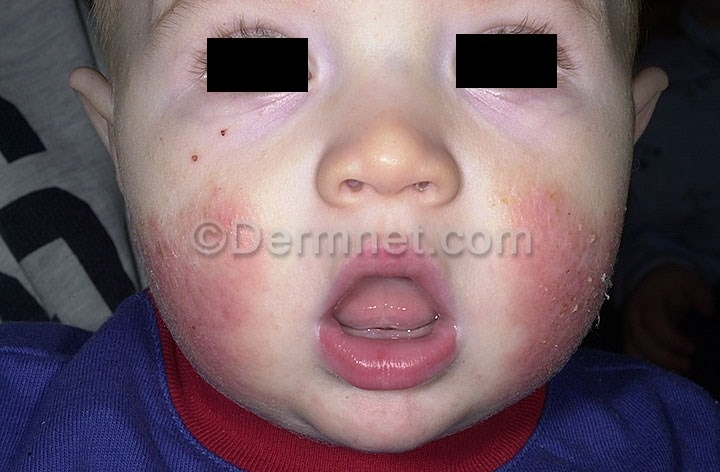Eczema: (491, 159, 618, 375), (131, 172, 263, 358), (182, 150, 211, 169), (213, 123, 239, 141)
